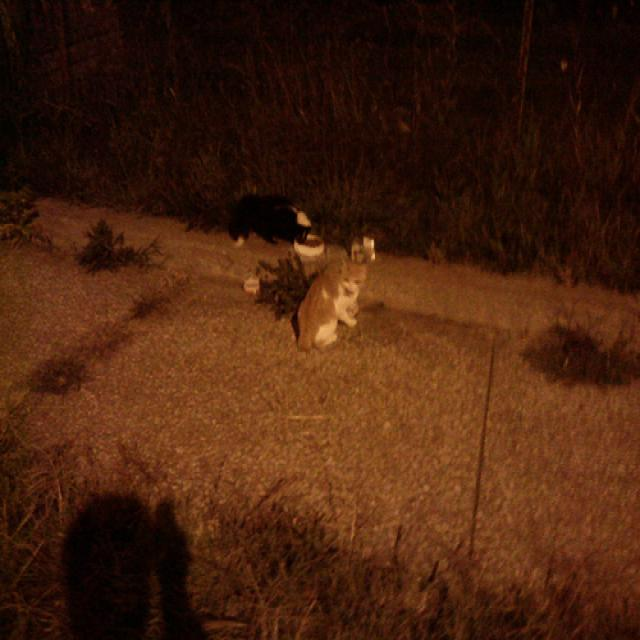Cat: (289, 244, 372, 363), (218, 182, 327, 266)
